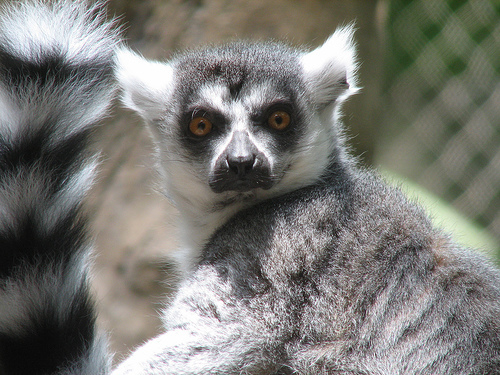cat: (1, 1, 499, 374)
